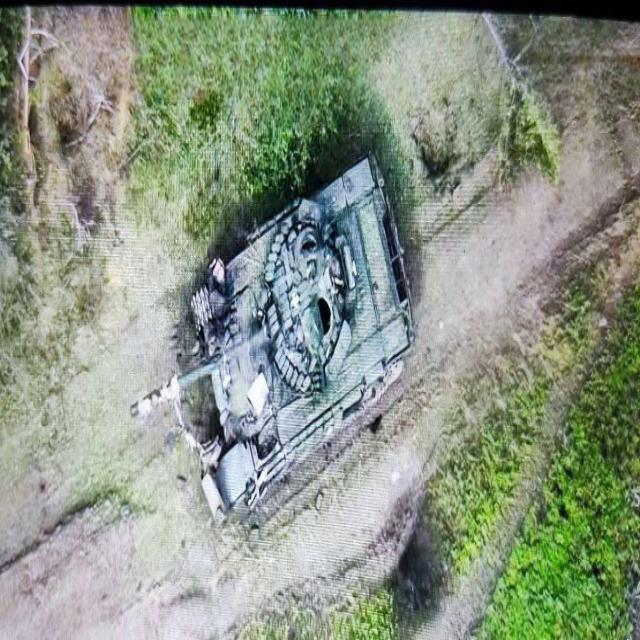MBT: (131, 145, 417, 604)
